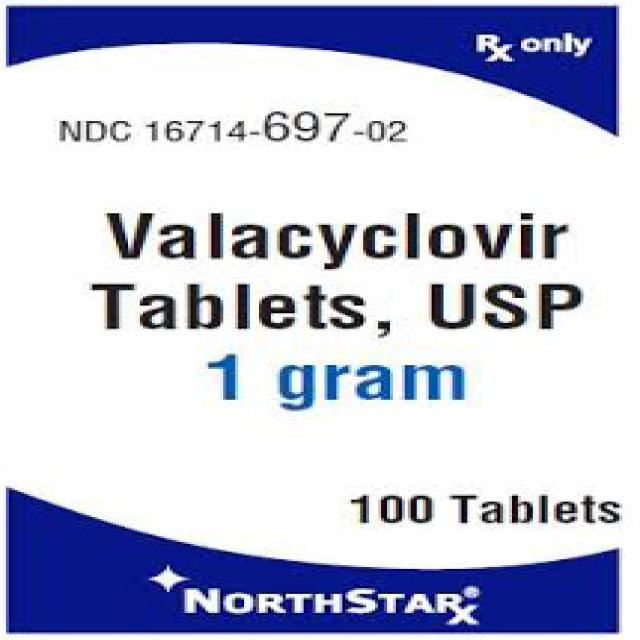drug-name: (83, 204, 584, 269)
